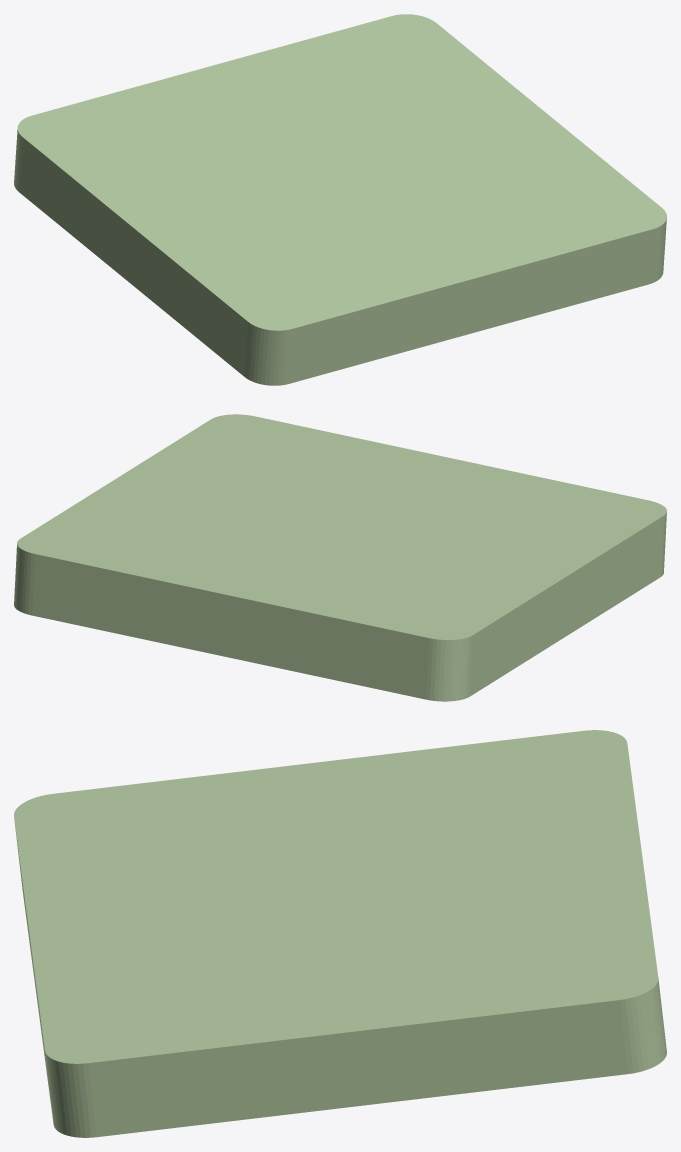
File: original-22.obj
The picture shows the model from 3 angles, top to bottom: view 1: azimuth 30°, elevation 25°; view 2: azimuth 150°, elevation 25°; view 3: azimuth 270°, elevation 25°; orthographic projection. The views are drawn at different scales.
Parts seen in each view (by area): view 1: mesh20/mesh20-geometry#mesh20-geometry; view 2: mesh20/mesh20-geometry#mesh20-geometry; view 3: mesh20/mesh20-geometry#mesh20-geometry.
Part boxes in pixels (x1,y1,x2,y2): mesh20/mesh20-geometry#mesh20-geometry: [14, 14, 666, 385]; mesh20/mesh20-geometry#mesh20-geometry: [14, 414, 666, 701]; mesh20/mesh20-geometry#mesh20-geometry: [14, 730, 666, 1137].
Bounding box in the file's own units: 0.0741 × 0.0162 × 0.0725.
